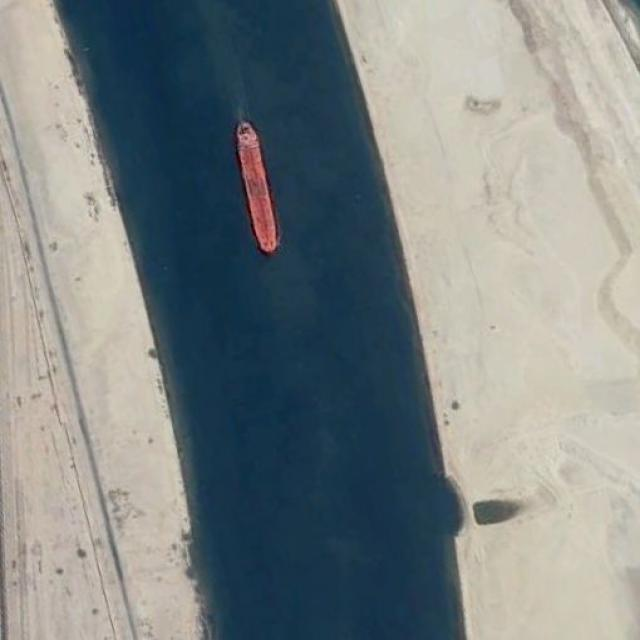ship: (232, 118, 279, 252)
